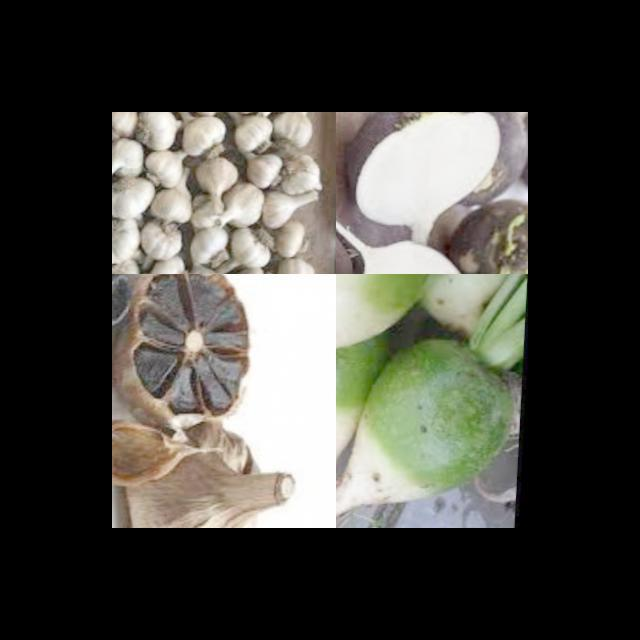garlic: (112, 112, 336, 274), (112, 274, 267, 451), (114, 424, 305, 528), (112, 274, 136, 379)
